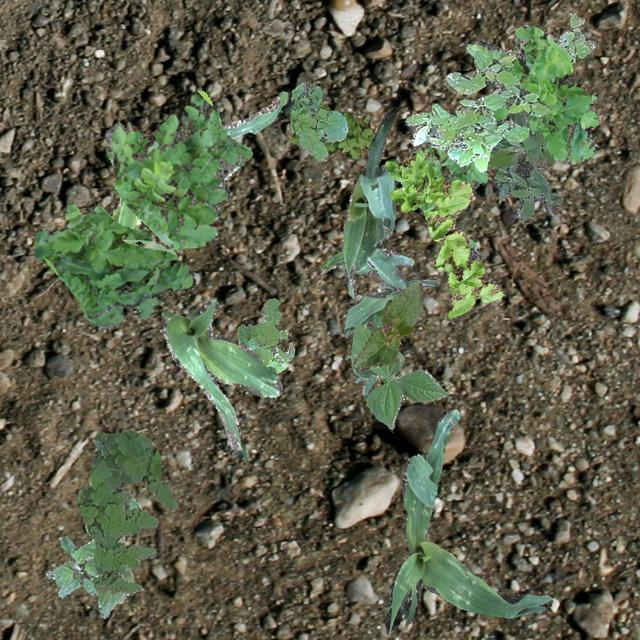crop: (384, 408, 552, 630), (110, 88, 290, 228), (161, 298, 281, 462), (320, 106, 412, 296), (44, 493, 140, 618), (342, 278, 438, 394), (349, 322, 446, 428), (352, 280, 422, 370)
weed: (400, 23, 598, 260), (104, 90, 250, 250), (34, 202, 195, 328), (383, 152, 502, 318), (404, 44, 550, 170), (76, 430, 178, 592), (486, 96, 560, 222), (290, 100, 374, 158), (288, 81, 346, 160), (236, 296, 294, 372), (56, 536, 102, 594), (546, 12, 594, 66)
